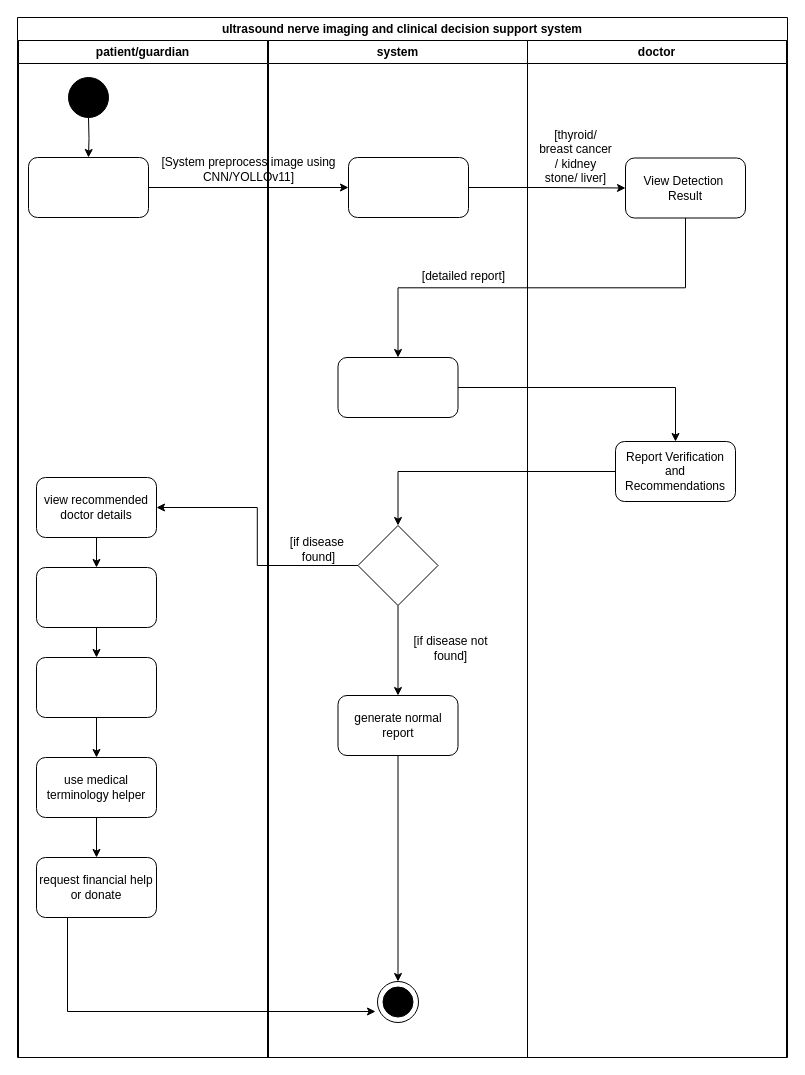
This 805x1075 diagram has some shape labels left out. The centre of each missing label's shape, as x and y in pixels:
"access yoga/ exercise videos" goes at (x=96, y=687).
"preprocess image" goes at (x=408, y=187).
"System will generate detailed report" goes at (x=397, y=387).
"Upload ultrasound image" goes at (x=88, y=187).
"view personalized diet chart" goes at (x=96, y=597).
